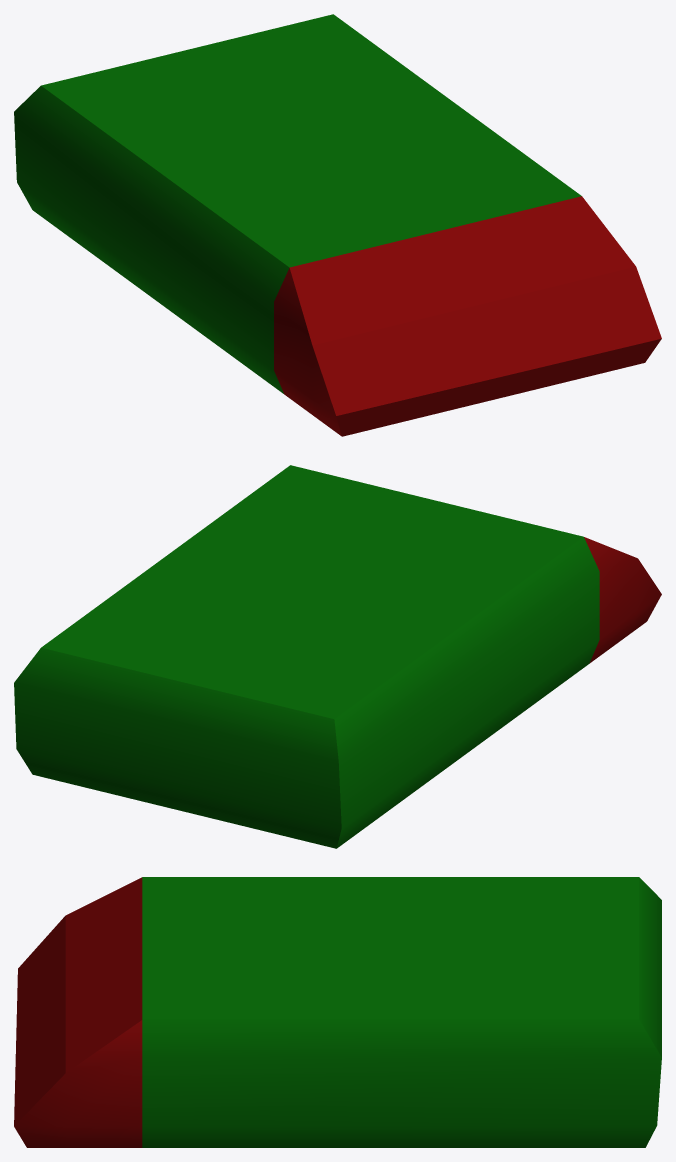
The model's file is LightVehical.fbx.
3 renders of one model, top to bottom at view 1: azimuth 30°, elevation 25°; view 2: azimuth 150°, elevation 25°; view 3: azimuth 270°, elevation 25°, orthographic.
Visible parts, largest first — view 1: LightVehcial; view 2: LightVehcial; view 3: LightVehcial.
Part boxes in pixels (x1,y1,x2,y2): LightVehcial: (14, 14, 661, 436); LightVehcial: (14, 465, 661, 848); LightVehcial: (14, 877, 661, 1147).
Size of the model in its own units: 0.9514 by 0.3527 by 1.65.
